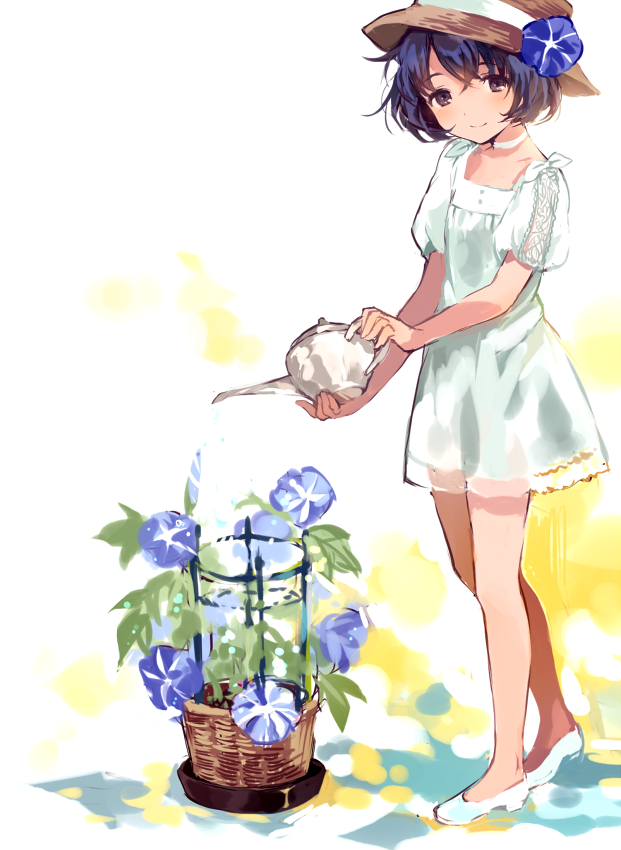纸片人正脸: (371, 11, 554, 152)
